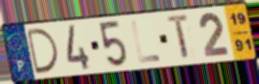2: (198, 11, 232, 60)
4: (66, 23, 92, 72)
5: (97, 19, 129, 69)
D: (25, 27, 61, 76)
L: (129, 19, 162, 64)
T: (166, 12, 191, 62)
